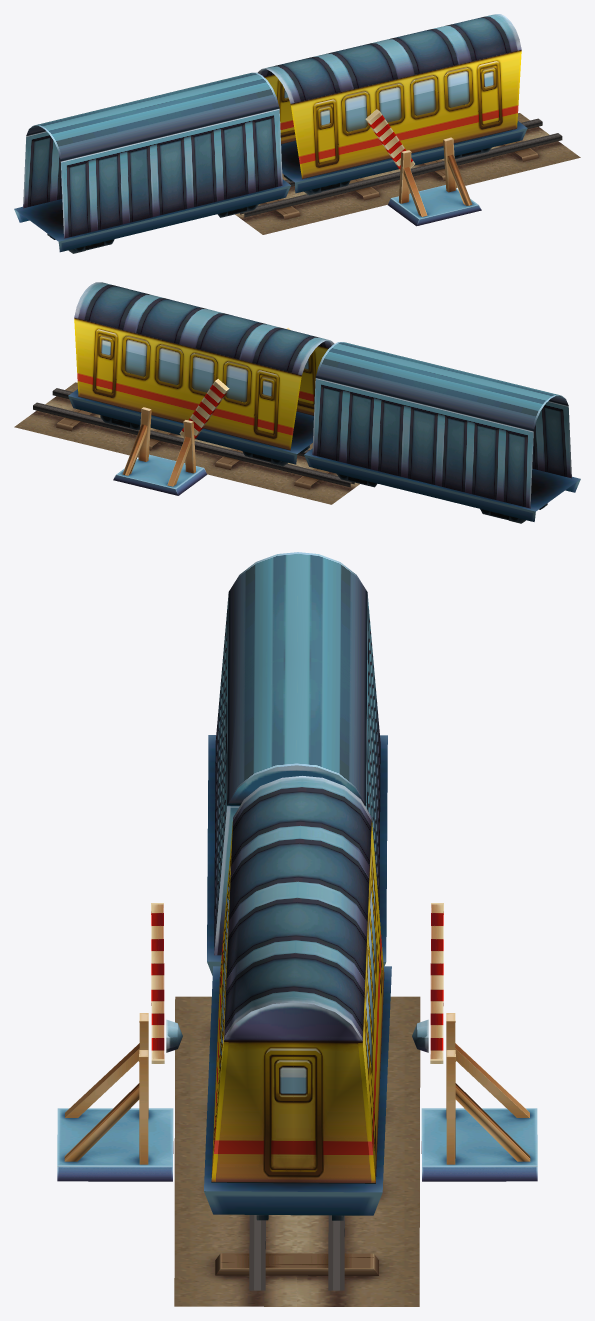
Rendered from Models.glb.
3 views of the same model, one above another, from view 1: azimuth 30°, elevation 25°; view 2: azimuth 150°, elevation 25°; view 3: azimuth 270°, elevation 25° (orthographic). The views are drawn at different scales.
Visible parts, largest first — view 1: boogey, engine, rail, phataks, plank; view 2: boogey, engine, rail, phataks, plank; view 3: engine, boogey, rail, phataks, plank.
Boxes of the visible parts, bbox=[...] form: boogey: bbox=[14, 72, 290, 253]; engine: bbox=[257, 14, 527, 195]; rail: bbox=[235, 113, 580, 234]; phataks: bbox=[388, 137, 481, 226]; plank: bbox=[306, 58, 414, 170]; boogey: bbox=[304, 342, 580, 523]; engine: bbox=[68, 282, 334, 466]; rail: bbox=[14, 382, 359, 504]; phataks: bbox=[113, 407, 206, 495]; plank: bbox=[179, 327, 290, 439]; engine: bbox=[204, 776, 391, 1220]; boogey: bbox=[207, 552, 387, 975]; rail: bbox=[174, 996, 420, 1306]; phataks: bbox=[57, 1013, 537, 1181]; plank: bbox=[151, 903, 443, 1063].
Size of the model in its own units: 4.34 by 1.05 by 1.76.
Materials: 5 (5 with a texture image).
